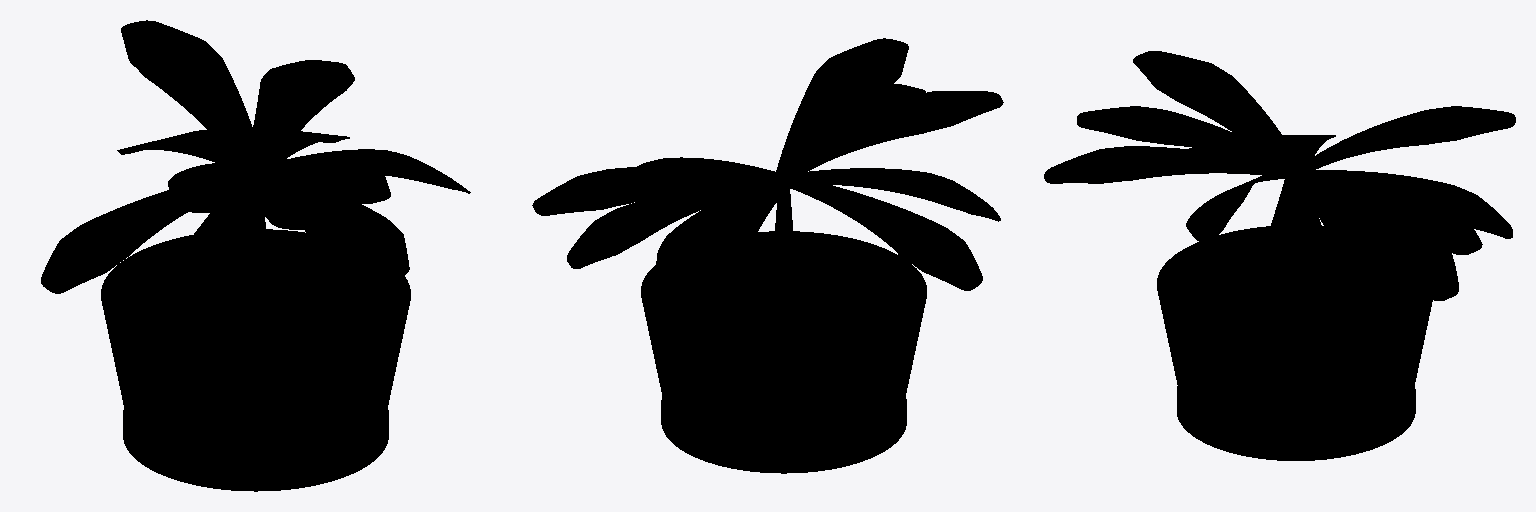
The robot description file, URDF, robot "plant":
<?xml version="1.0" ?>
<robot name="plant">
  <link name="plantlink">
    <contact>
      <lateral_friction value="10.0"/>
      <rolling_friction value="10.0"/>
      <spinning_friction value="10.0"/>
    </contact>
    <inertial>
      <origin rpy="0 0 0" xyz="0 0 0"/>
       <mass value="2.25"/>
       <inertia ixx="1" ixy="0" ixz="0" iyy="1" iyz="0" izz="1"/>
    </inertial>
    <visual>
      <origin rpy="0 0 0" xyz="0 0 0"/>
      <geometry>
				<mesh filename="meshes/plant.obj" scale="0.3 0.3 0.15"/>
      </geometry>
      <material name="black">
        <color rgba="0 0 0 1"/>
      </material>
    </visual>
    <collision>
      <origin rpy="0 0 0" xyz="0 0 0"/>
      <geometry>
				<mesh filename="meshes/plant.obj" scale="0.3 0.3 0.15"/>
      </geometry>
    </collision>
  </link>
</robot>

--- What the picture shows (computed from the rendered views, not written in the file) ---
Views: 3 orthographic renders of the robot side by side, from view 1: azimuth 30°, elevation 25°; view 2: azimuth 150°, elevation 25°; view 3: azimuth 270°, elevation 25°.
Robot: plant — 1 links, 0 joints (none); root link plantlink; default pose: all joints at 0.
Visible links, largest first — view 1: plantlink; view 2: plantlink; view 3: plantlink.
Link boxes in pixels (x1,y1,x2,y2): plantlink: (41, 20, 470, 491); plantlink: (532, 38, 1003, 473); plantlink: (1044, 51, 1515, 460).
Size in the robot's own frame: 0.0828 by 0.09 by 0.0613 metres.
Meshes: 1 distinct files referenced, 1 mesh visuals loaded (1 OBJ).
